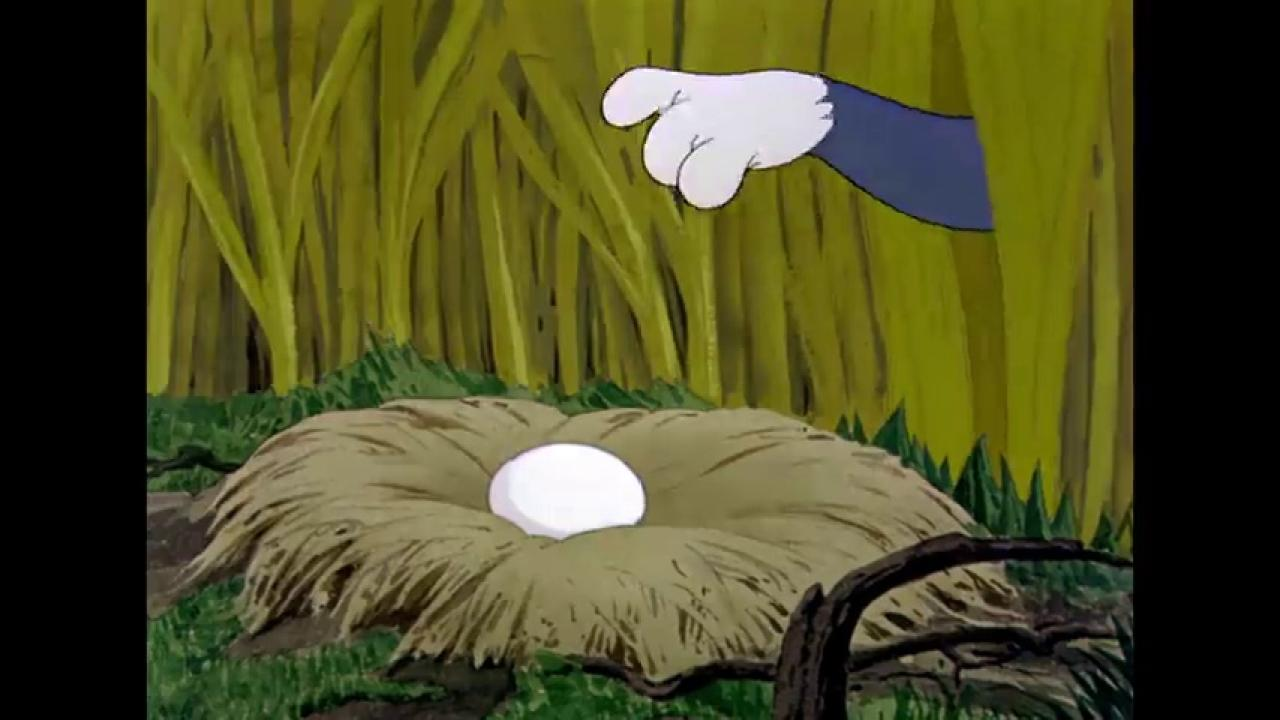Tom: (593, 56, 994, 240)
